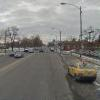Car: (63, 54, 99, 84)
